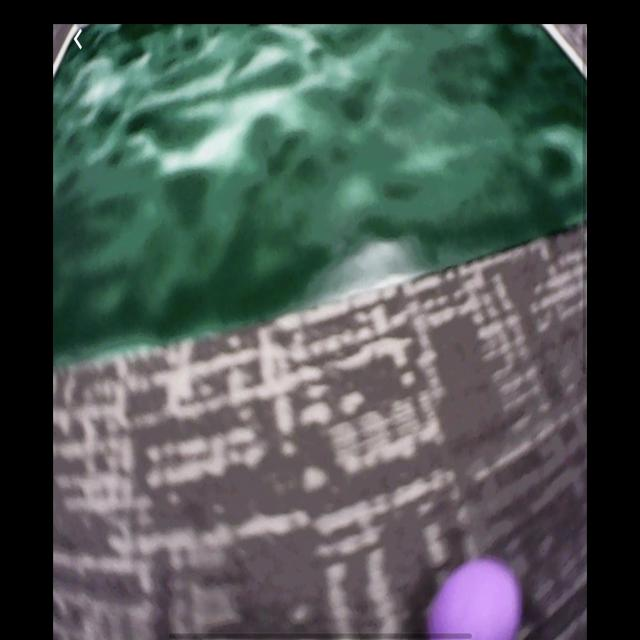ball: (422, 555, 522, 640)
